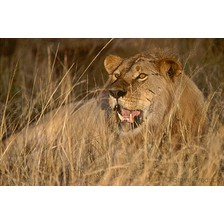lion: (101, 48, 209, 152)
